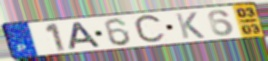1: (44, 22, 68, 53)
6: (103, 17, 133, 48), (206, 9, 236, 37)
A: (68, 20, 104, 51)
C: (132, 12, 168, 46)
K: (174, 11, 207, 40)
